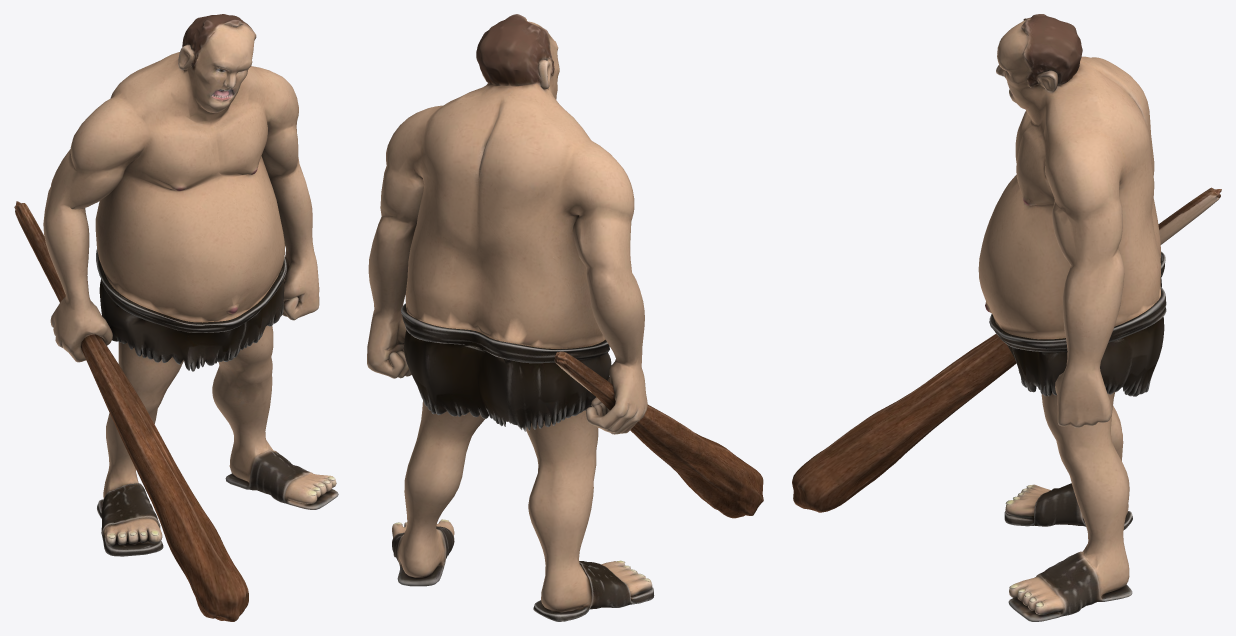
The model's file is MZ4250 - Hill Giant (Male).glb.
The picture shows the model from 3 angles, left to right: view 1: azimuth 30°, elevation 25°; view 2: azimuth 150°, elevation 25°; view 3: azimuth 270°, elevation 25°; orthographic projection. The views are drawn at different scales.
Visible parts, largest first — view 1: Body.002; view 2: Body.002; view 3: Body.002.
Part boxes in pixels (x1,y1,x2,y2): Body.002: (14, 14, 338, 621); Body.002: (367, 14, 763, 621); Body.002: (792, 14, 1221, 621).
Bounding box in the file's own units: 42.71 × 80.22 × 57.26.
1 material, 1 textured.
